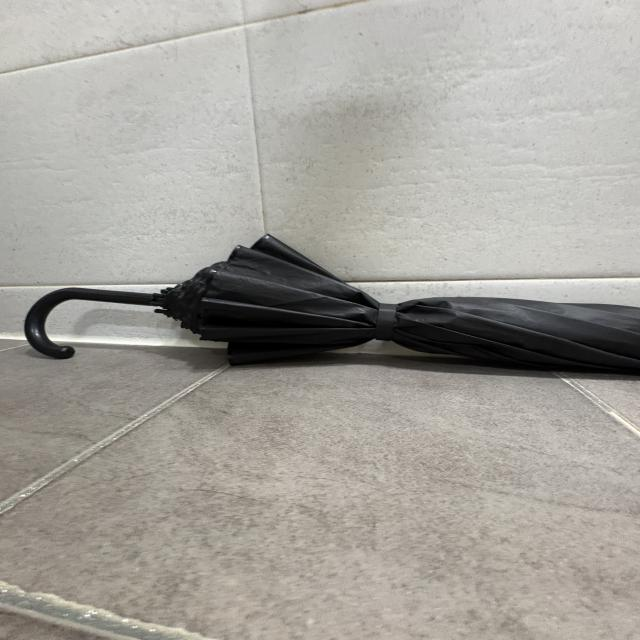umbrella: (25, 233, 640, 383)
